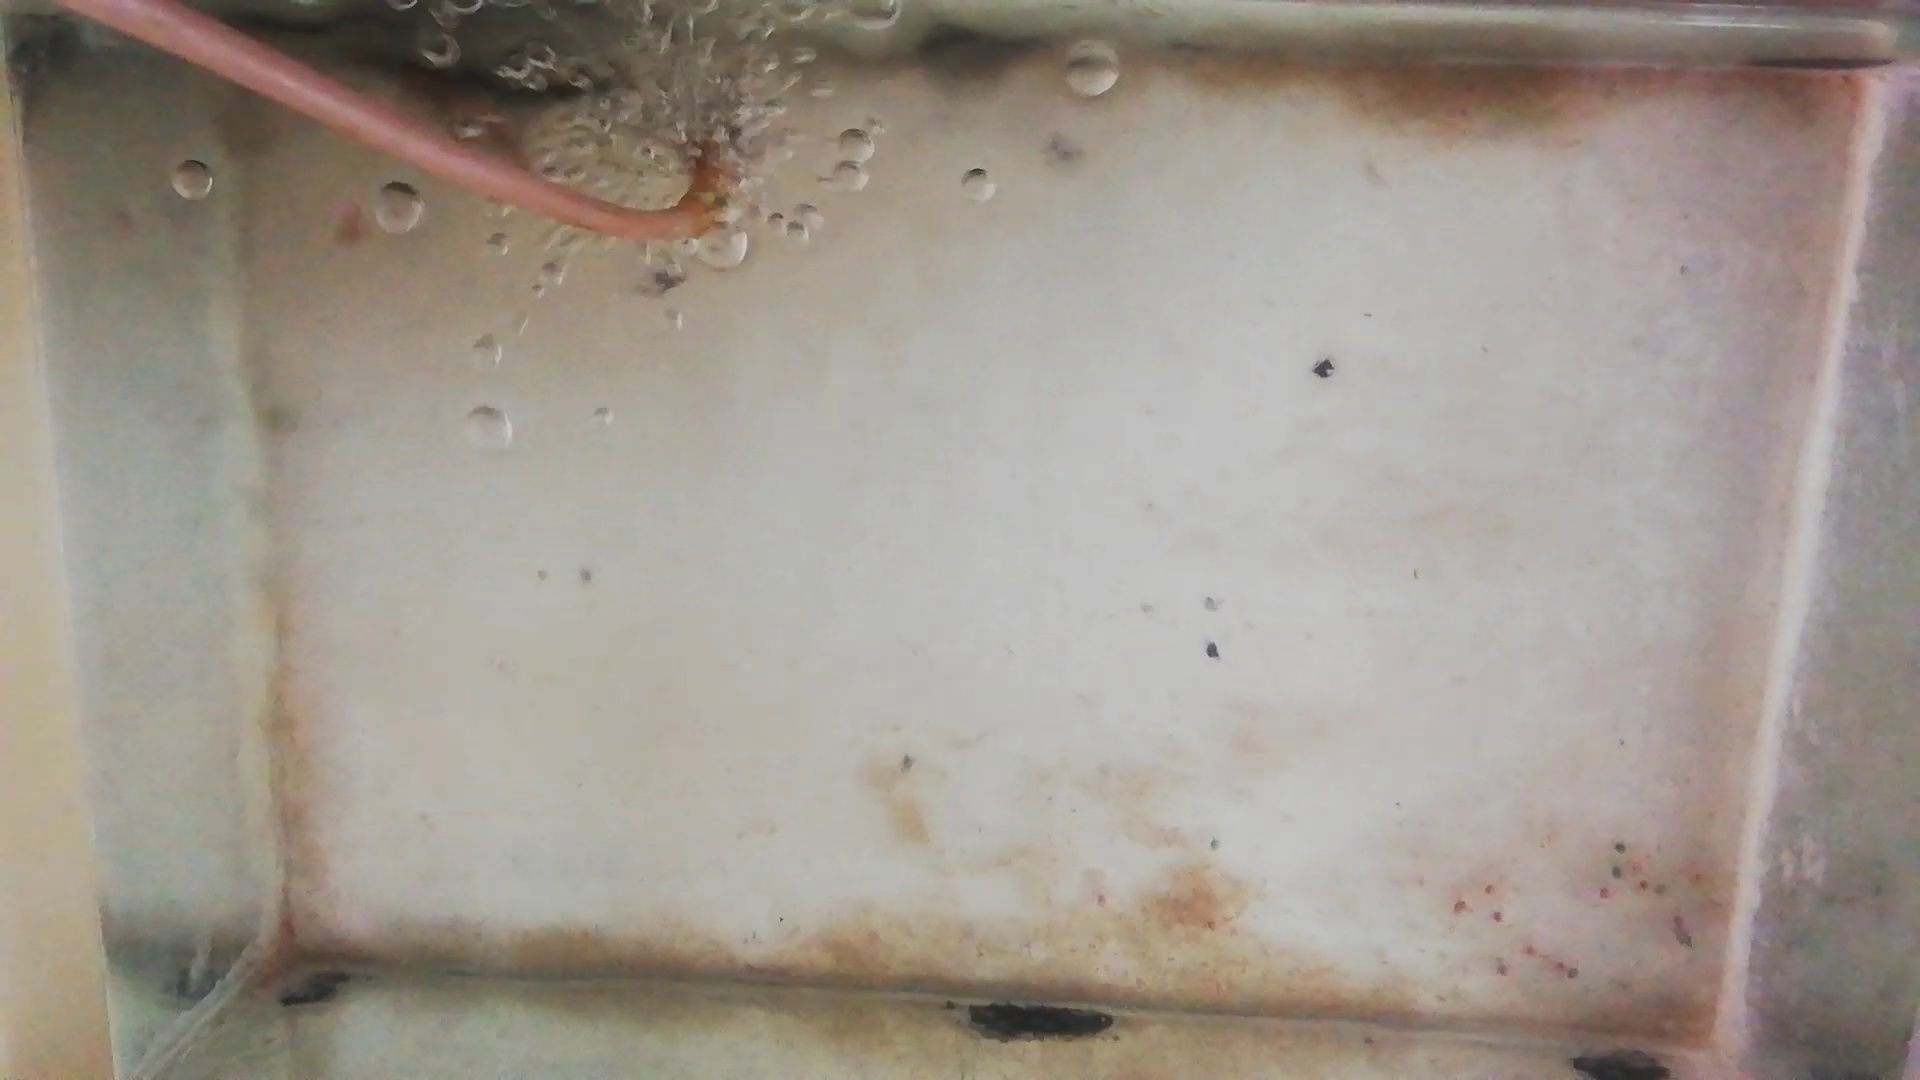fish: (360, 44, 625, 109), (465, 111, 546, 164)
